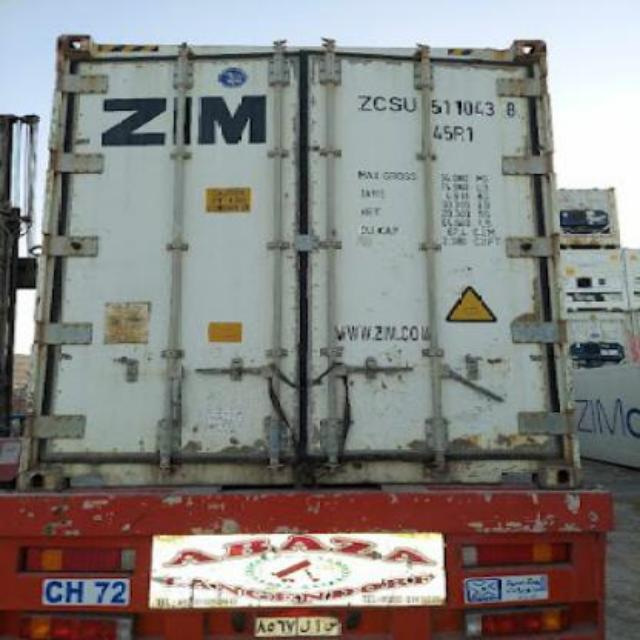0: (462, 98, 476, 118), (508, 102, 514, 120)
1: (454, 99, 464, 117), (446, 97, 452, 115)
3: (486, 98, 496, 118)
4: (474, 100, 486, 118)
5: (430, 97, 440, 115)
C: (374, 96, 390, 112)
S: (391, 96, 404, 112)
U: (402, 94, 418, 116)
Z: (354, 92, 374, 112)
